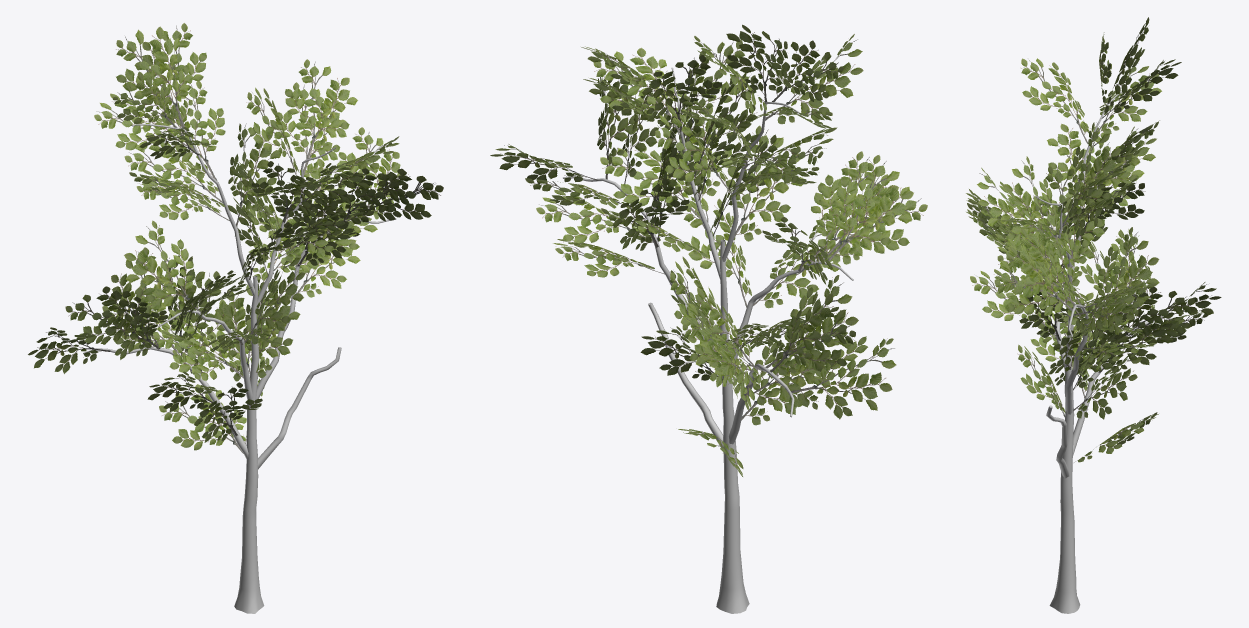
The model's file is tree3.fbx.
3 renders of one model, left to right at view 1: azimuth 30°, elevation 25°; view 2: azimuth 150°, elevation 25°; view 3: azimuth 270°, elevation 25°, orthographic. The views are drawn at different scales.
Parts seen in each view (by area): view 1: tree3; view 2: tree3; view 3: tree3.
Boxes of the visible parts, <box> form: tree3: <box>28,23,443,613</box>; tree3: <box>490,24,927,613</box>; tree3: <box>966,17,1221,613</box>.
Bounding box in the file's own units: 864 × 1207 × 536.
